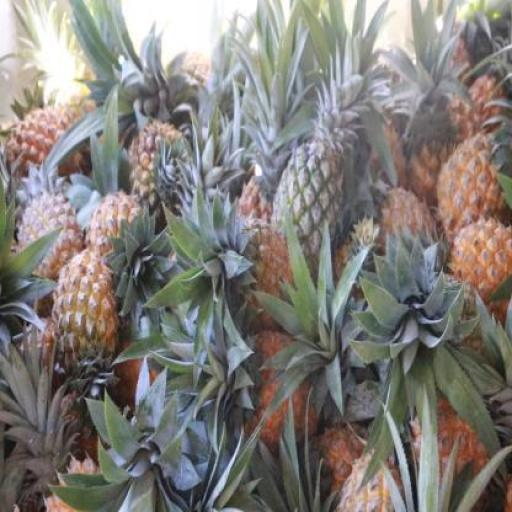Pineapple - v8 v1: (55, 257, 116, 382), (439, 130, 510, 232), (452, 222, 510, 302)
